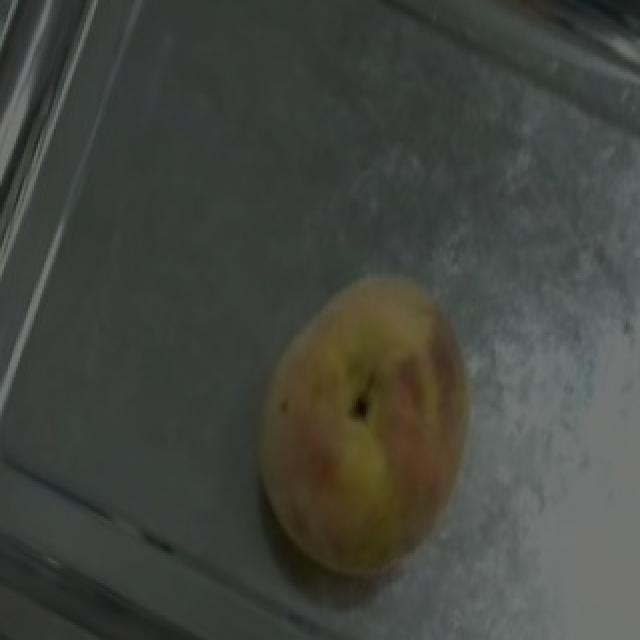Fruit: (204, 241, 522, 625)
